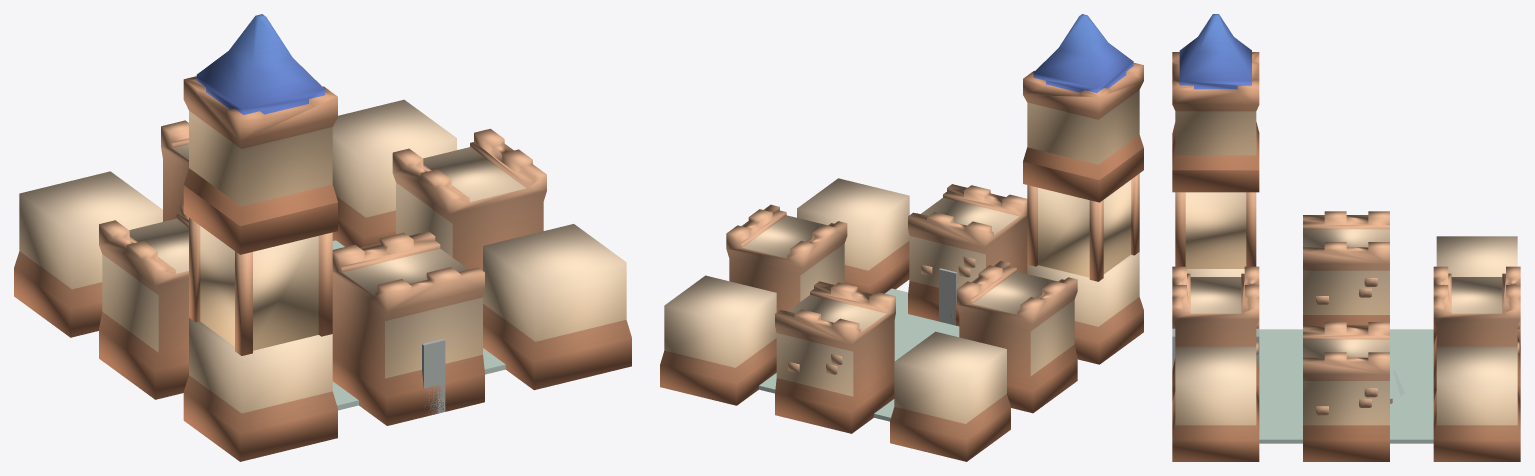
File: hillfort.glb
The picture shows the model from 3 angles, left to right: view 1: azimuth 30°, elevation 25°; view 2: azimuth 150°, elevation 25°; view 3: azimuth 270°, elevation 25°; orthographic projection. The views are drawn at different scales.
Visible parts, largest first — view 1: tower-square-roof, wall.004, tower-square-base.001, tower-square-base, wall.001, wall.002, tower-square-mid, tower-square-base.003, tower-square-base.002, wall.003, wall-gate; view 2: tower-square-roof, wall.003, tower-square-base.003, tower-square-base.002, wall.001, wall.004, tower-square-mid, wall.002, tower-square-base.001, tower-square-base, ground-grass.003, wall-gate; view 3: tower-square-roof, wall.002, tower-square-base.001, tower-square-base.002, wall.001, wall.003, wall.004, tower-square-mid, tower-square-base.003, ground-grass.006, ground-grass.008, ground-grass (+4 smaller).
Boxes of the visible parts, x1,y1,x2,y2 form: tower-square-roof: (183, 14, 337, 254); wall.004: (332, 231, 484, 425); tower-square-base.001: (483, 224, 631, 390); tower-square-base: (183, 318, 337, 461); wall.001: (99, 203, 188, 399); wall.002: (392, 128, 546, 270); tower-square-mid: (189, 218, 332, 355); tower-square-base.003: (14, 171, 162, 337); tower-square-base.002: (332, 99, 456, 247); wall.003: (161, 120, 188, 221); wall-gate: (422, 338, 445, 414); tower-square-roof: (1023, 14, 1143, 202); wall.003: (775, 281, 895, 433); tower-square-base.003: (890, 331, 1010, 461); tower-square-base.002: (660, 275, 776, 405); wall.001: (956, 261, 1077, 413); wall.004: (908, 184, 1027, 326); tower-square-mid: (1027, 173, 1139, 281); wall.002: (726, 204, 847, 311); tower-square-base.001: (797, 178, 909, 294); tower-square-base: (1027, 252, 1143, 364); ground-grass.003: (894, 314, 959, 339); wall-gate: (939, 268, 957, 325); tower-square-roof: (1172, 14, 1259, 192); wall.002: (1303, 322, 1389, 461); tower-square-base.001: (1172, 346, 1259, 461); tower-square-base.002: (1433, 346, 1520, 461); wall.001: (1303, 211, 1389, 325); wall.003: (1433, 266, 1520, 402); wall.004: (1172, 266, 1259, 402); tower-square-mid: (1175, 192, 1256, 268); tower-square-base.003: (1433, 236, 1520, 347); ground-grass.006: (1259, 403, 1302, 443); ground-grass.008: (1390, 403, 1433, 443); ground-grass: (1259, 329, 1302, 365).
Bounding box in the file's own units: 8 × 8.06 × 8.
13 materials, 10 textured.
